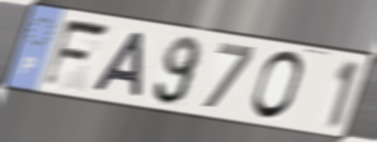1: (328, 58, 363, 132)
7: (199, 40, 260, 113)
9: (151, 33, 204, 108)
A: (90, 30, 149, 99)
F: (40, 17, 114, 91)
O: (248, 49, 306, 123)
